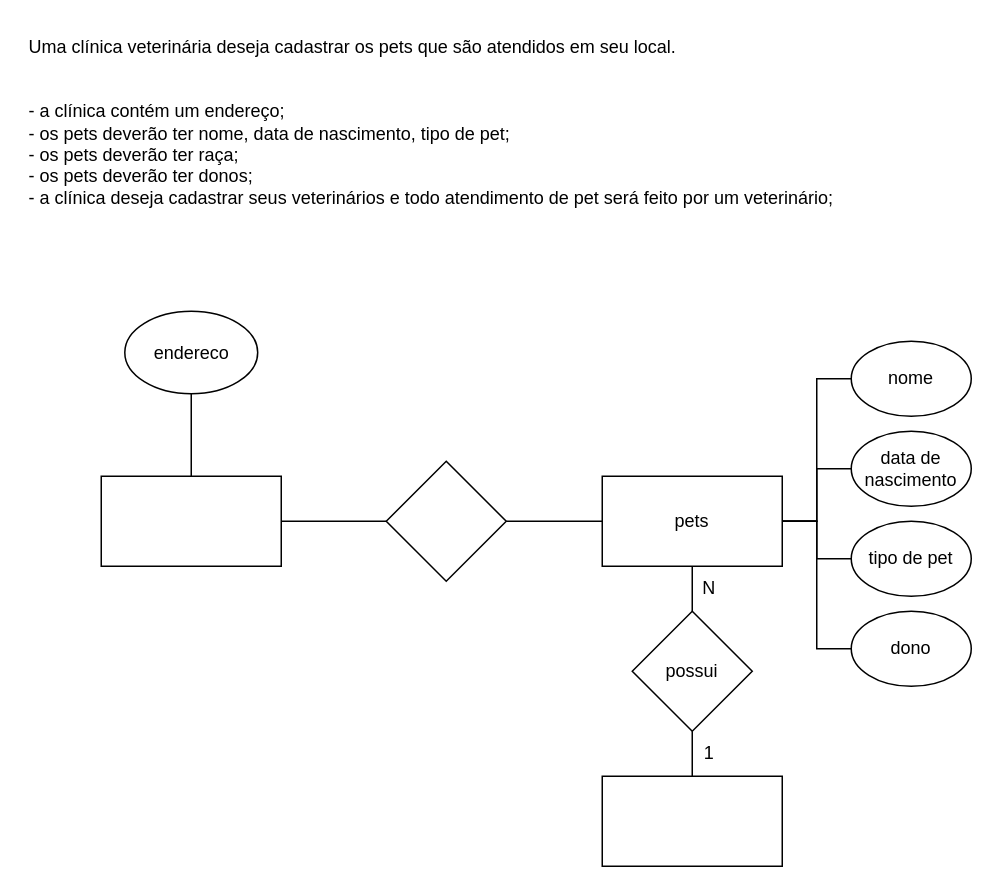
Image size: 998x893. Some labels were removed from this diagram. Each missing label, with the centre of its shape:
atende: [445,520]
clinica: [190,520]
raca: [691,820]
